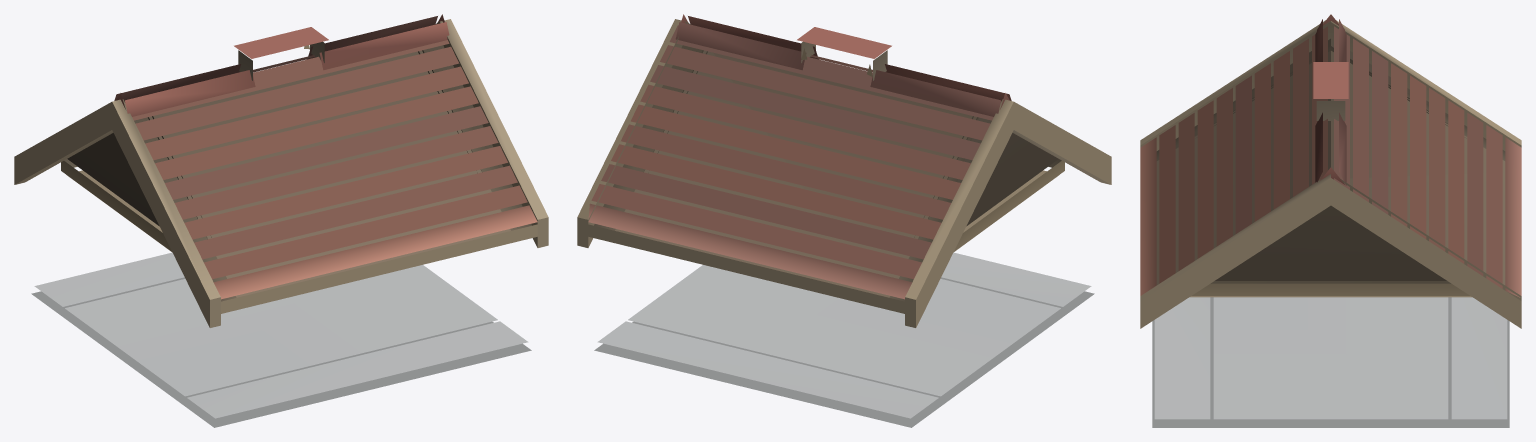
Rendered from picnicshelter.lod.glb.
3 views of the same model, side by side, from view 1: azimuth 30°, elevation 25°; view 2: azimuth 150°, elevation 25°; view 3: azimuth 270°, elevation 25° (orthographic). The views are drawn at different scales.
Visible parts, largest first — view 1: picnicshelter; view 2: picnicshelter; view 3: picnicshelter.
Part boxes in pixels (left/top/right/bottom): picnicshelter: left=14, top=14, right=548, bottom=427; picnicshelter: left=577, top=14, right=1111, bottom=427; picnicshelter: left=1140, top=14, right=1521, bottom=427.
Size of the model in its own units: 8 by 6.3 by 8.
